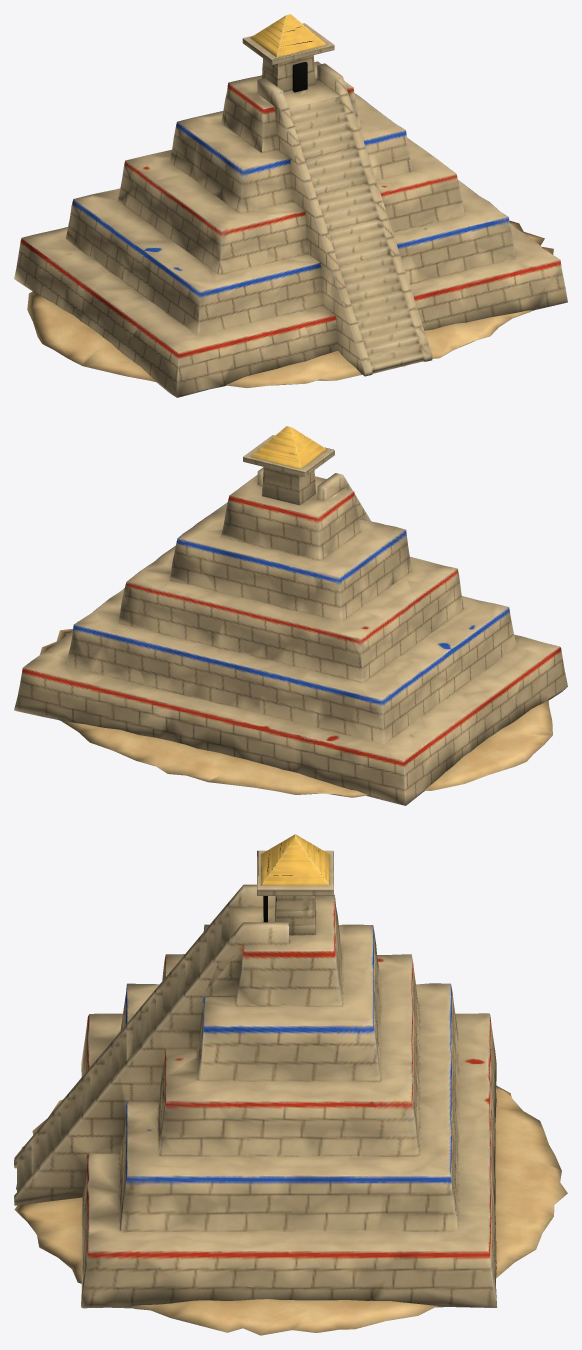
The model's file is bronze_decor_desert.glb.
3 renders of one model, top to bottom at view 1: azimuth 30°, elevation 25°; view 2: azimuth 150°, elevation 25°; view 3: azimuth 270°, elevation 25°, orthographic. The views are drawn at different scales.
Visible parts, largest first — view 1: Pyramid; view 2: Pyramid; view 3: Pyramid.
Part boxes in pixels (x1,y1,x2,y2): Pyramid: [14, 14, 567, 397]; Pyramid: [14, 426, 567, 805]; Pyramid: [14, 834, 567, 1335].
Bounding box in the file's own units: 11.15 × 6.09 × 8.64.
Materials: 1 (1 with a texture image).
